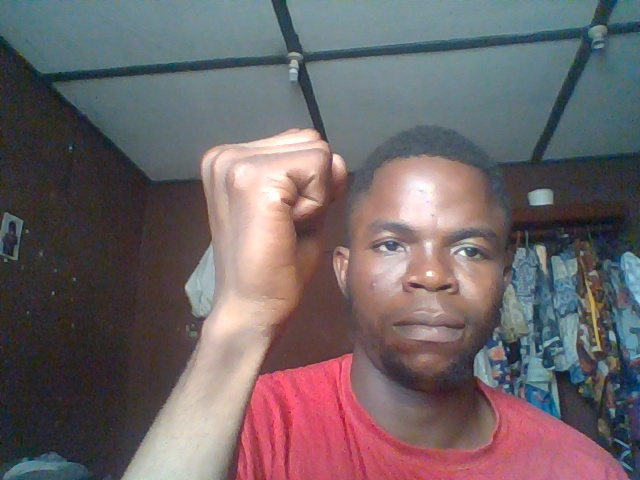Unity: (183, 124, 353, 334)
